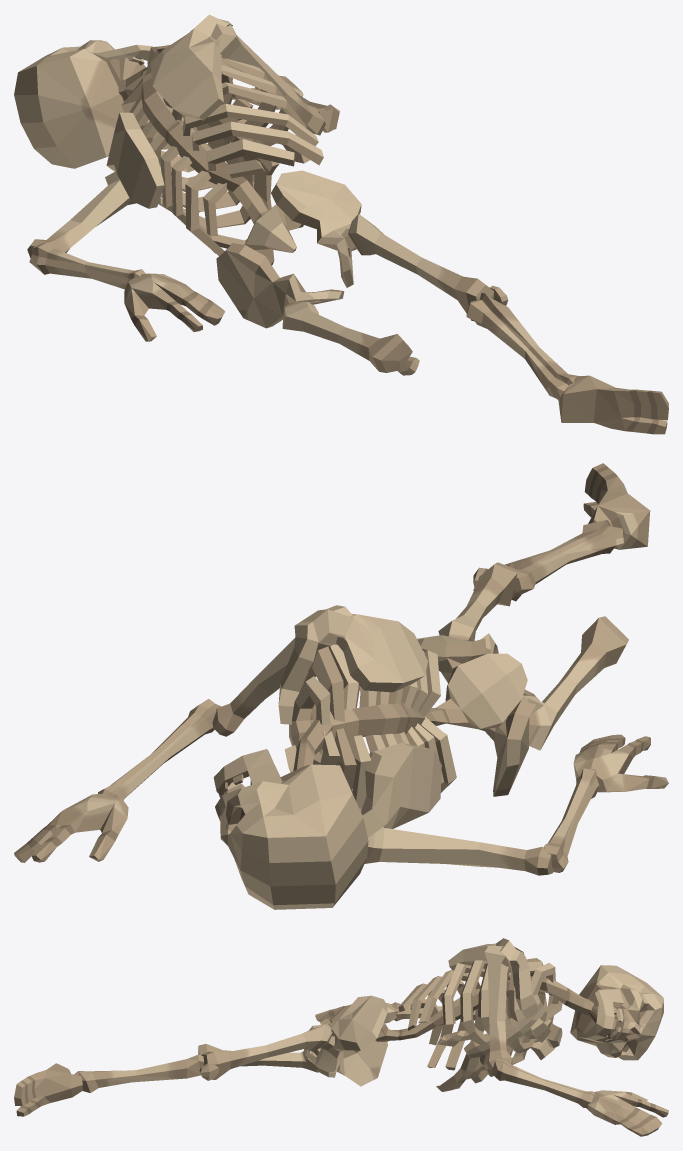
The model's file is SM_Prop_Skeleton_03.fbx.
The picture shows the model from 3 angles, top to bottom: view 1: azimuth 30°, elevation 25°; view 2: azimuth 150°, elevation 25°; view 3: azimuth 270°, elevation 25°; orthographic projection. The views are drawn at different scales.
Parts seen in each view (by area): view 1: SM_Prop_Skeleton_03; view 2: SM_Prop_Skeleton_03; view 3: SM_Prop_Skeleton_03.
Part boxes in pixels (bbox=[...]): SM_Prop_Skeleton_03: bbox=[14, 14, 668, 434]; SM_Prop_Skeleton_03: bbox=[14, 463, 668, 909]; SM_Prop_Skeleton_03: bbox=[14, 938, 668, 1136].
Bounding box in the file's own units: 85.43 × 49.65 × 184.
